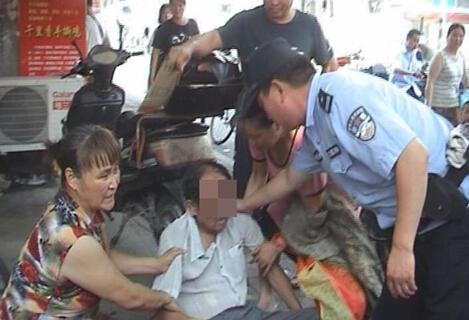10+: (4, 1, 468, 315)
down: (152, 162, 319, 320)
